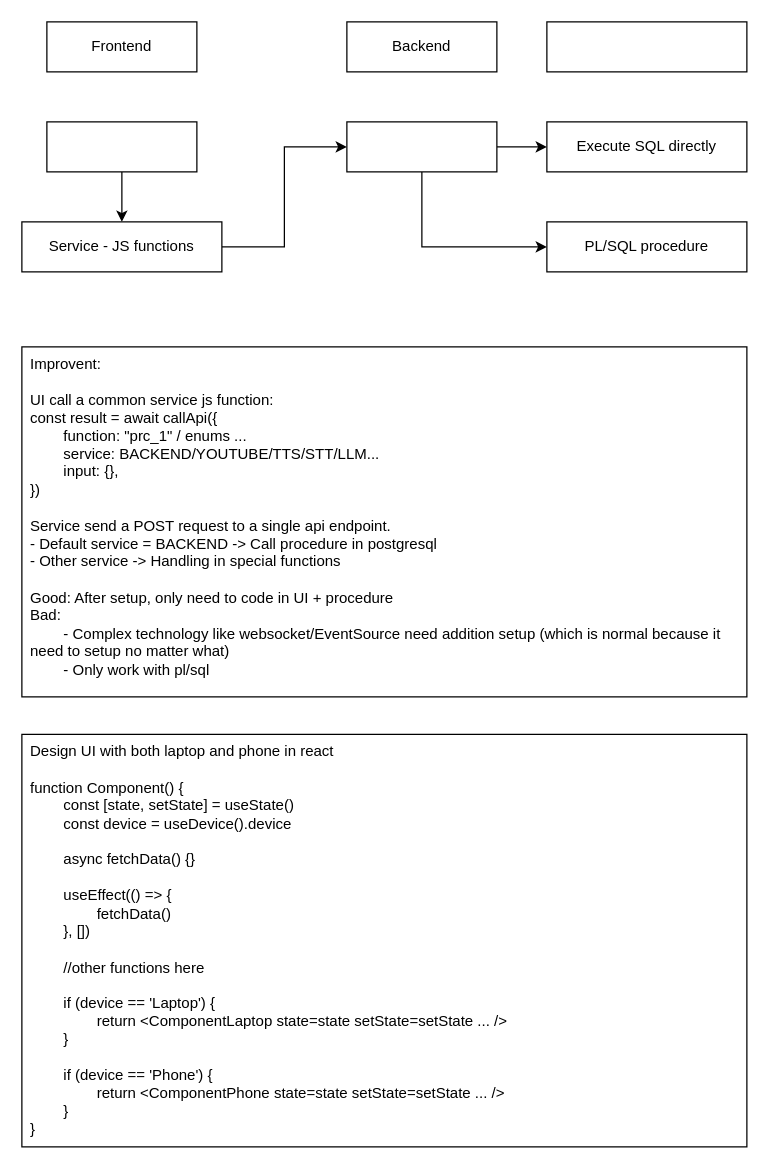
Image size: 769x1169. Some labels were removed from this diagram. The centre of each missing label's shape, as x and y in pixels:
API endpoints: the point at 421,146
PostSQL Database: the point at 646,46
UI - React/HTML: the point at 121,146
